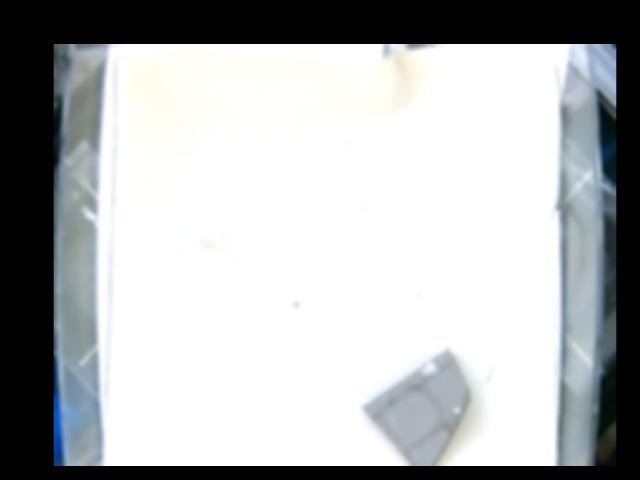China: (360, 345, 469, 466)
